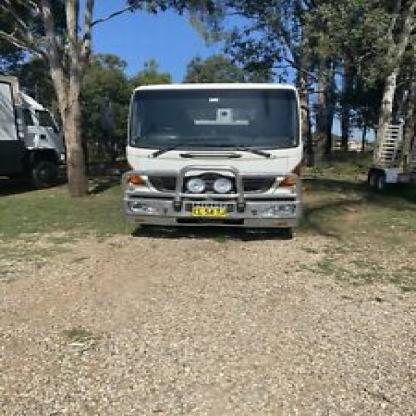dump_truck: (94, 74, 336, 244)
